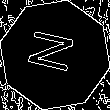N_E: (26, 30, 84, 80)
